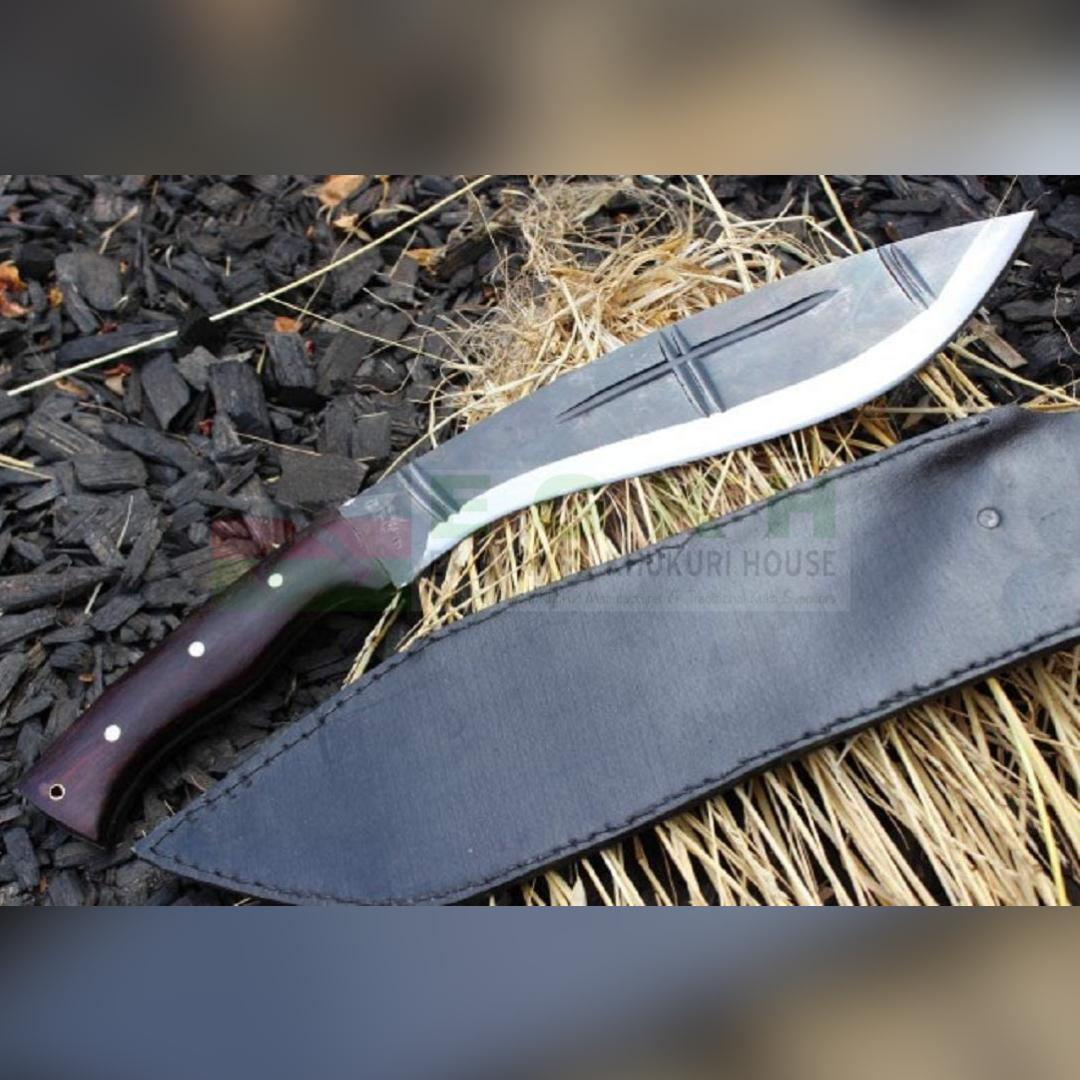facao: (23, 213, 1028, 838)
